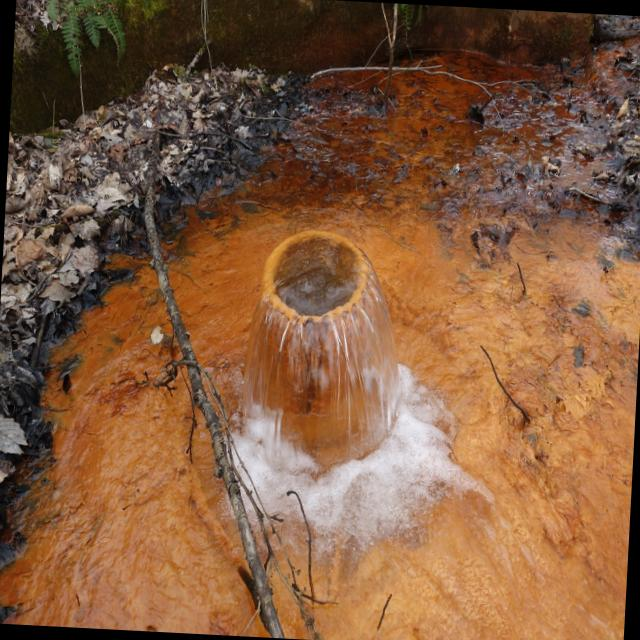yellow_boy: (164, 73, 640, 640), (0, 257, 267, 636)
